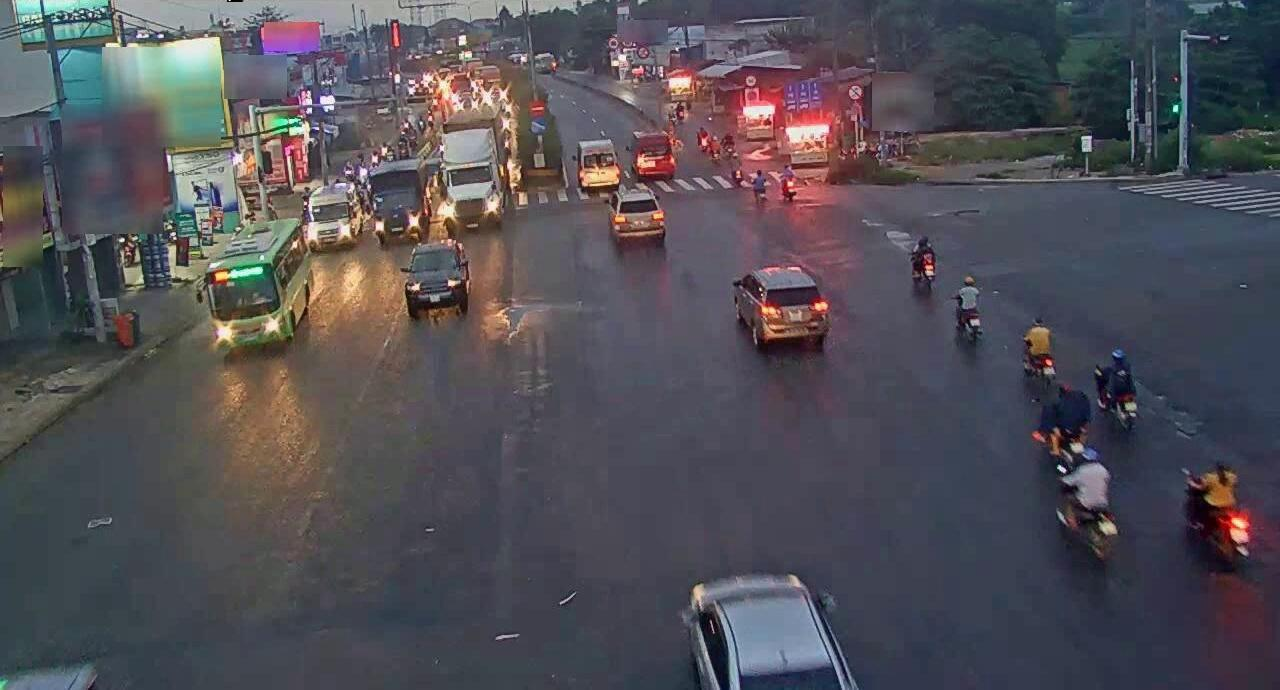xe buyt: (208, 218, 314, 355)
xe hoi: (678, 560, 861, 690), (724, 257, 843, 356), (403, 238, 473, 317), (605, 178, 668, 245)
xe may: (1176, 455, 1259, 574), (1049, 447, 1127, 562), (1094, 337, 1147, 440), (956, 271, 998, 357), (909, 230, 937, 293)
xe van: (569, 131, 629, 201), (626, 125, 682, 184)
